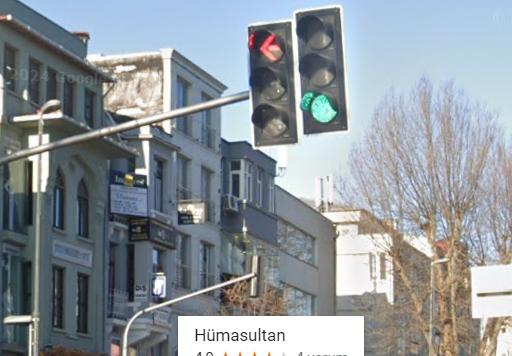greenlight: (297, 14, 343, 132)
redlight: (246, 26, 294, 145)
